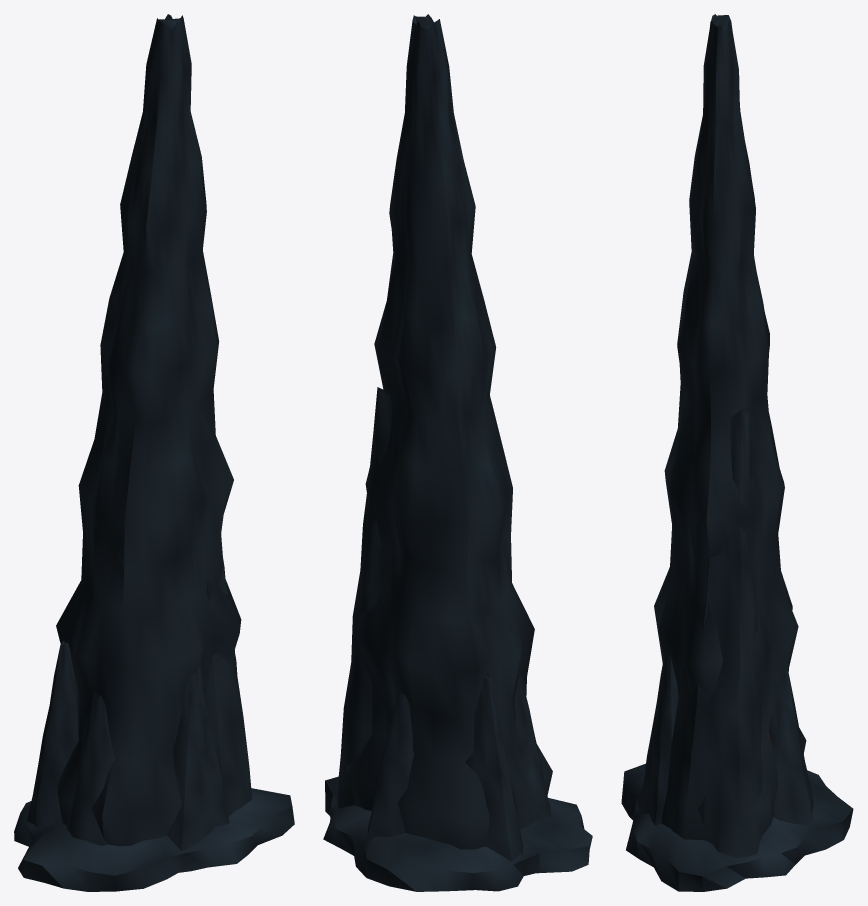
The model's file is chimeneas.glb.
3 views of the same model, side by side, from view 1: azimuth 30°, elevation 25°; view 2: azimuth 150°, elevation 25°; view 3: azimuth 270°, elevation 25° (orthographic).
Parts seen in each view (by area): view 1: spire; view 2: spire; view 3: spire.
Part boxes in pixels (<box>): spire: <box>14,14,294,891</box>; spire: <box>323,14,592,891</box>; spire: <box>621,14,853,891</box>.
Size of the model in its own units: 16 by 47.5 by 12.
